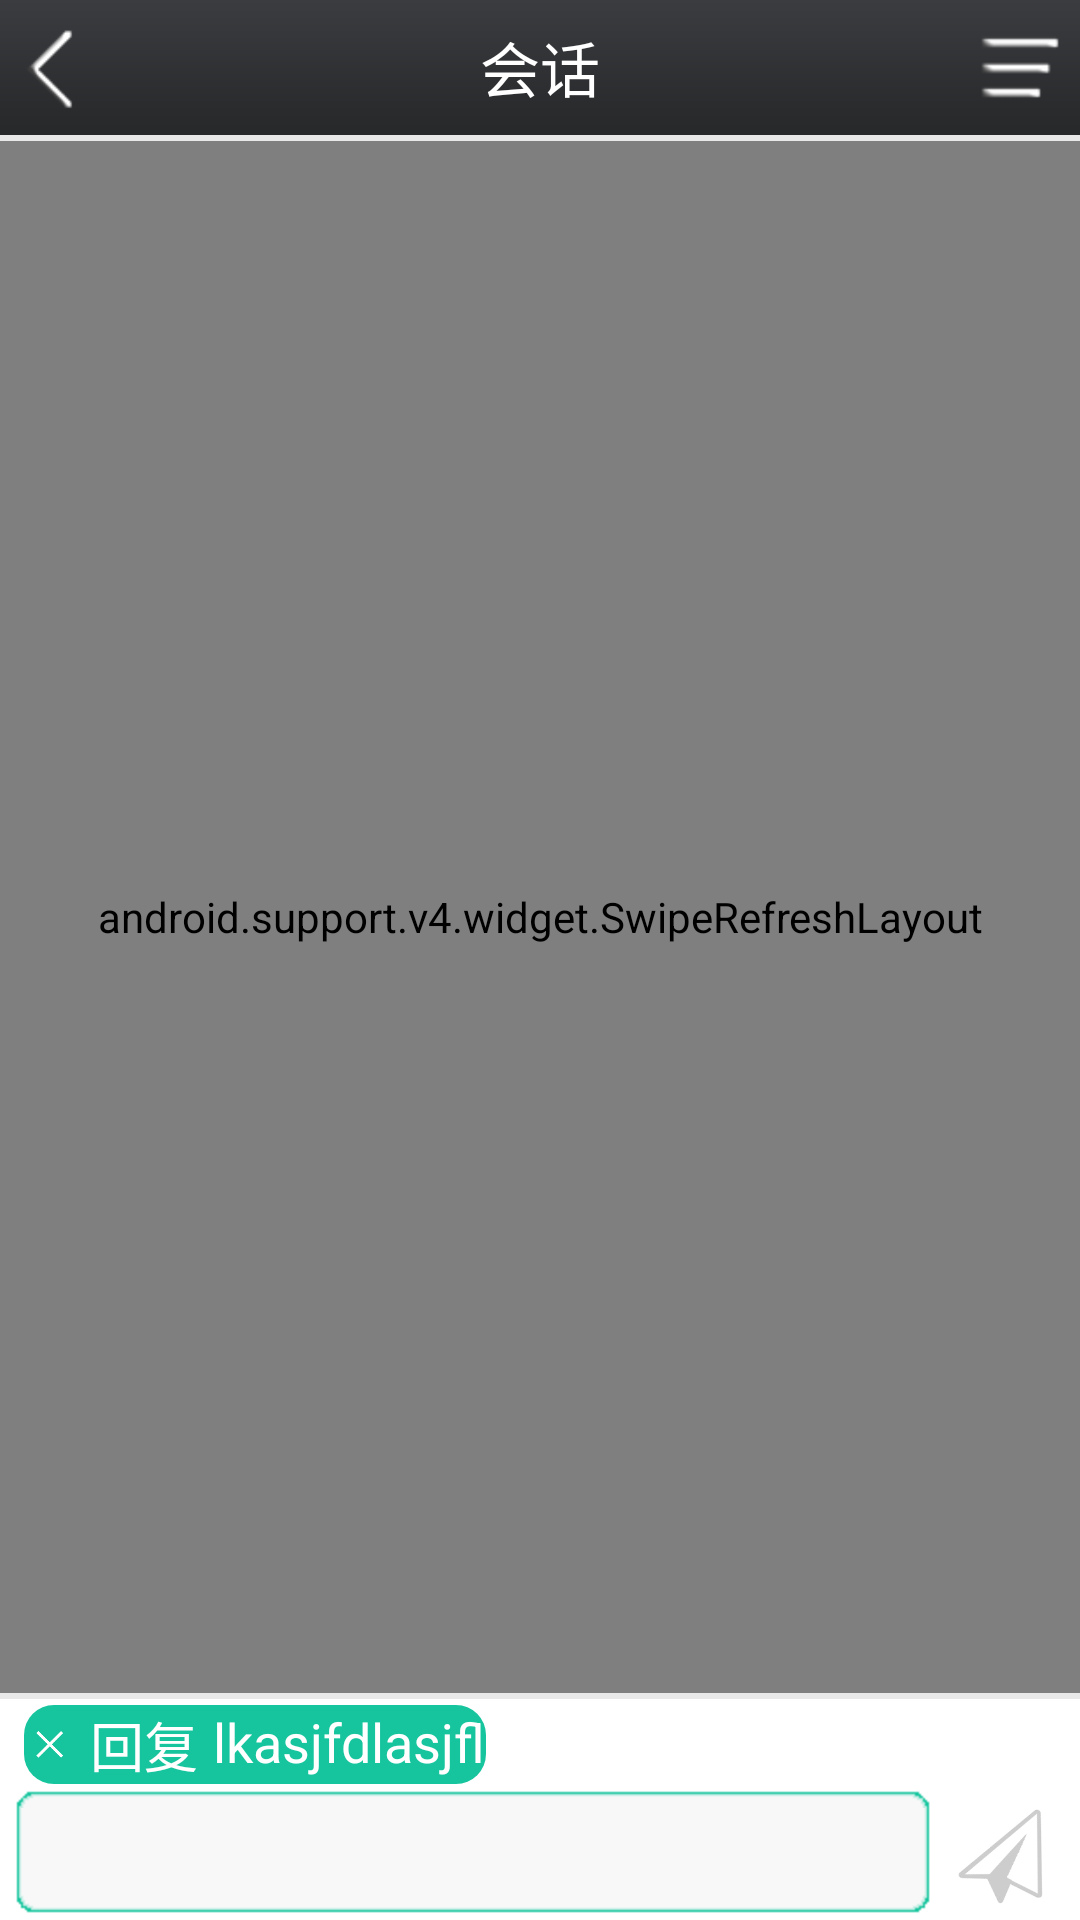

Where icons sit on this 1080 × 1920 app screen, as {"left": x1, "top": y1, "right": x2, "bottom": y2}:
delete: {"left": 36, "top": 1731, "right": 63, "bottom": 1758}
